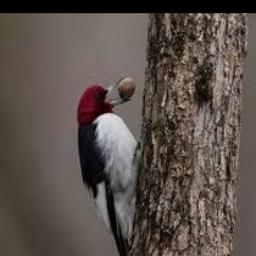Woodpecker: (77, 76, 140, 256)
